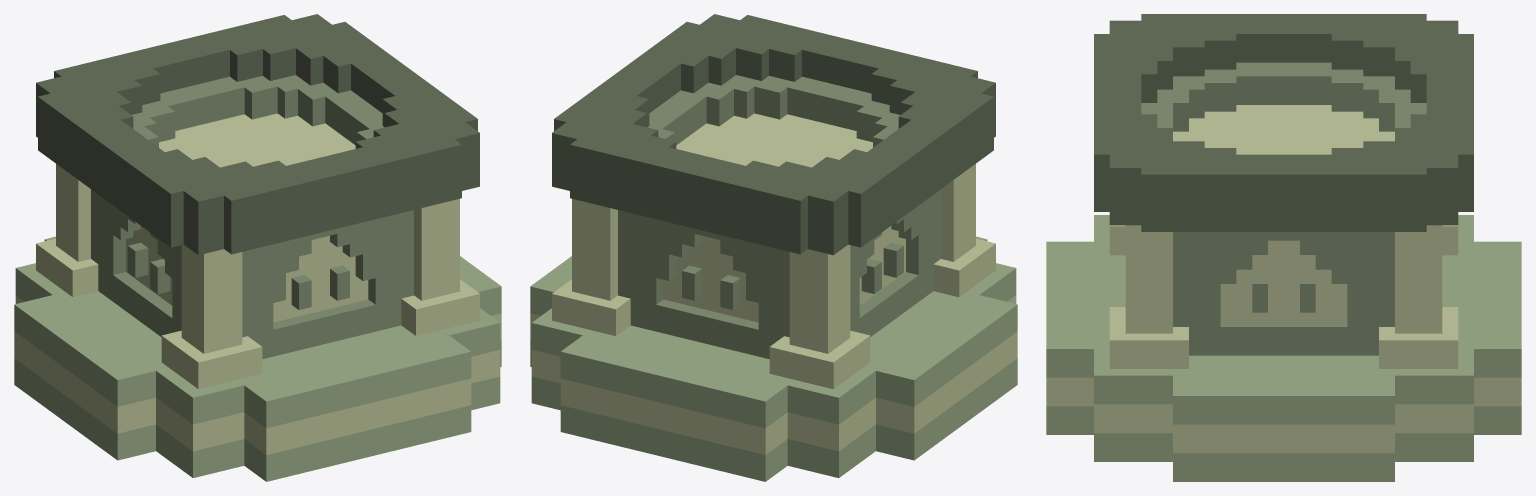
Rendered from small altar-2.obj.
3 renders of one model, left to right at view 1: azimuth 30°, elevation 25°; view 2: azimuth 150°, elevation 25°; view 3: azimuth 270°, elevation 25°, orthographic. The views are drawn at different scales.
Bounding box in the file's own units: 3 × 2 × 3.
1 material, 1 textured.
